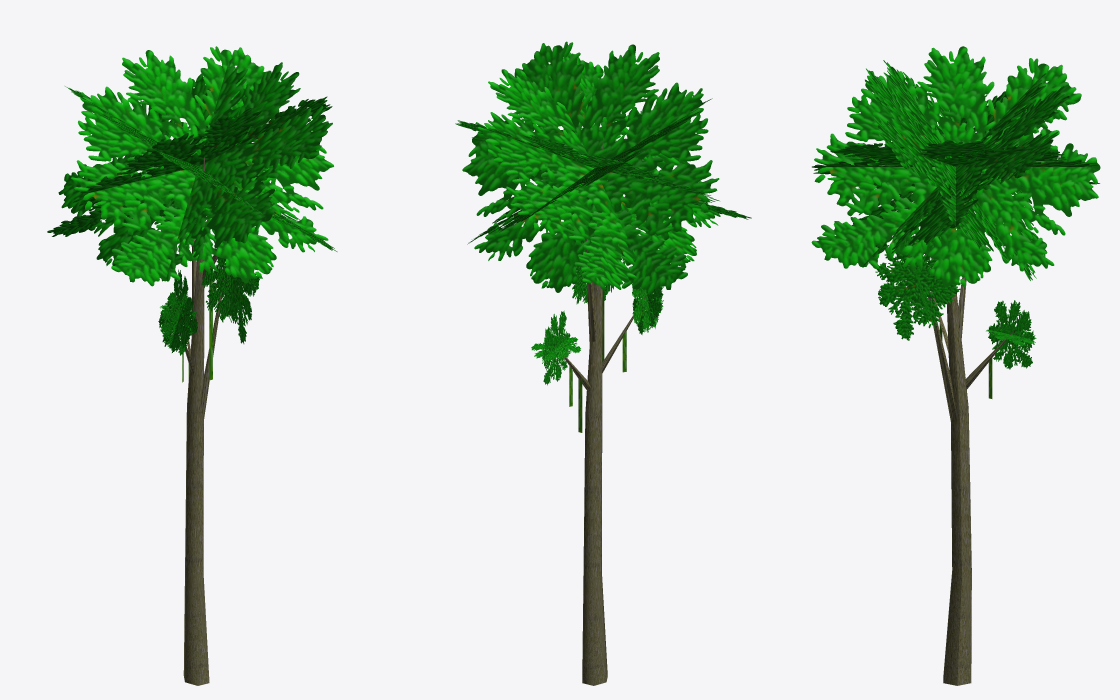
The model's file is tree04.obj.
3 renders of one model, left to right at view 1: azimuth 30°, elevation 25°; view 2: azimuth 150°, elevation 25°; view 3: azimuth 270°, elevation 25°, orthographic.
Parts seen in each view (by area): view 1: Duplicate06, Duplicate07, Cylinder04, Box01, Duplicate12, Duplicate13, Duplicate08; view 2: Box01, Duplicate07, Cylinder04, Duplicate06, Duplicate08, Duplicate10, Duplicate13, Duplicate11; view 3: Duplicate08, Duplicate06, Cylinder04, Box01, Duplicate12, Duplicate07, Duplicate10, Duplicate02.
Boxes of the visible parts, x1,y1,x2,y2 form: Duplicate06: (71, 46, 333, 286); Duplicate07: (58, 58, 332, 281); Cylinder04: (183, 145, 209, 685); Box01: (47, 96, 332, 236); Duplicate12: (201, 241, 259, 343); Duplicate13: (158, 287, 197, 355); Duplicate08: (65, 86, 337, 251); Box01: (462, 41, 719, 294); Duplicate07: (476, 52, 720, 290); Cylinder04: (582, 136, 607, 685); Duplicate06: (455, 120, 751, 219); Duplicate08: (467, 98, 712, 244); Duplicate10: (542, 310, 570, 385); Duplicate13: (632, 285, 663, 334); Duplicate11: (531, 333, 580, 361); Duplicate08: (811, 46, 1100, 287); Duplicate06: (852, 73, 1069, 267); Cylinder04: (940, 139, 971, 685); Box01: (865, 60, 1047, 280); Duplicate12: (875, 235, 960, 340); Duplicate07: (812, 140, 1099, 188); Duplicate10: (988, 300, 1035, 369); Duplicate02: (928, 292, 955, 421).
Bounding box in the file's own units: 107 × 243 × 109.
